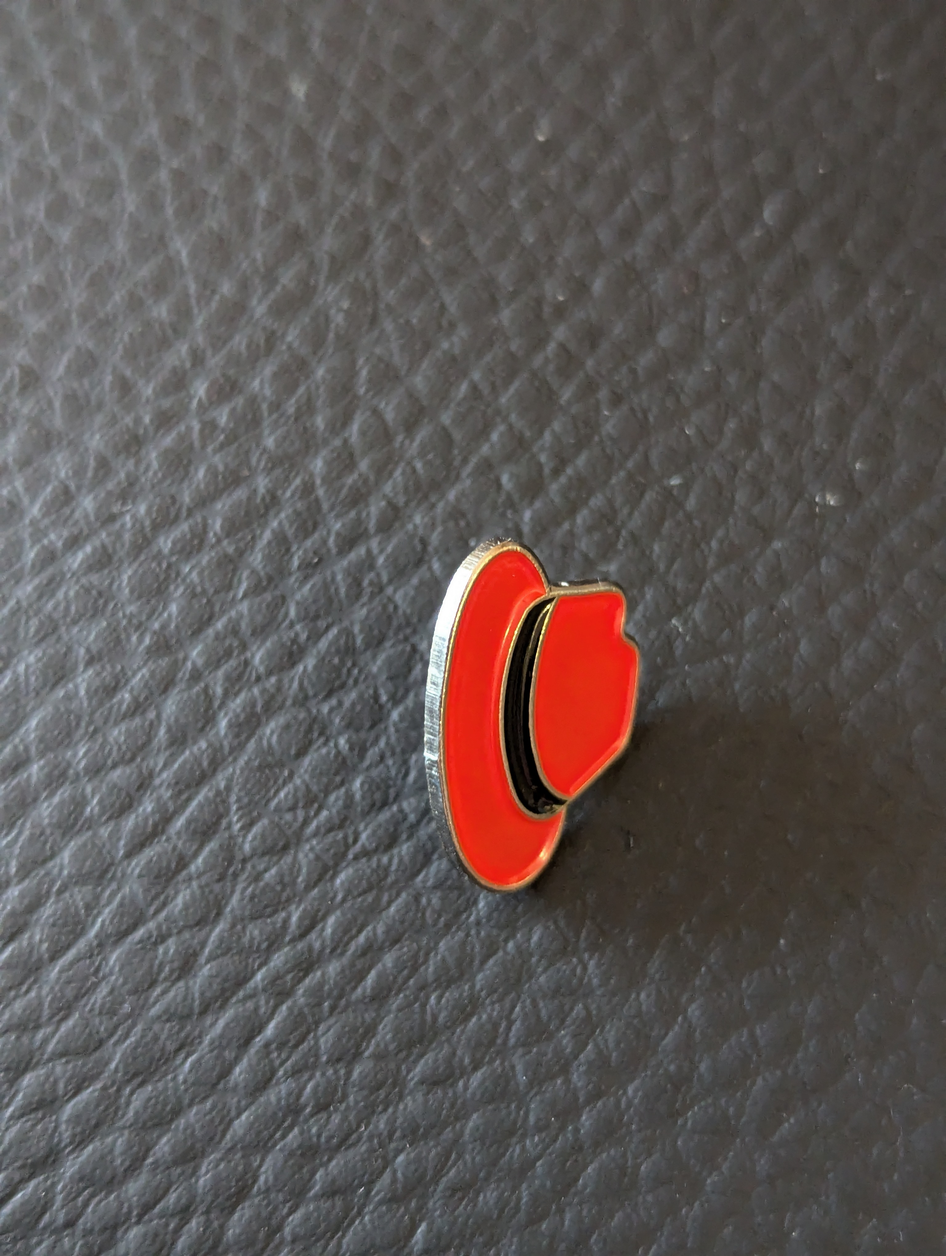Red-Hat: (277, 361, 712, 998)
